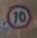limite 70: (5, 4, 31, 27)
